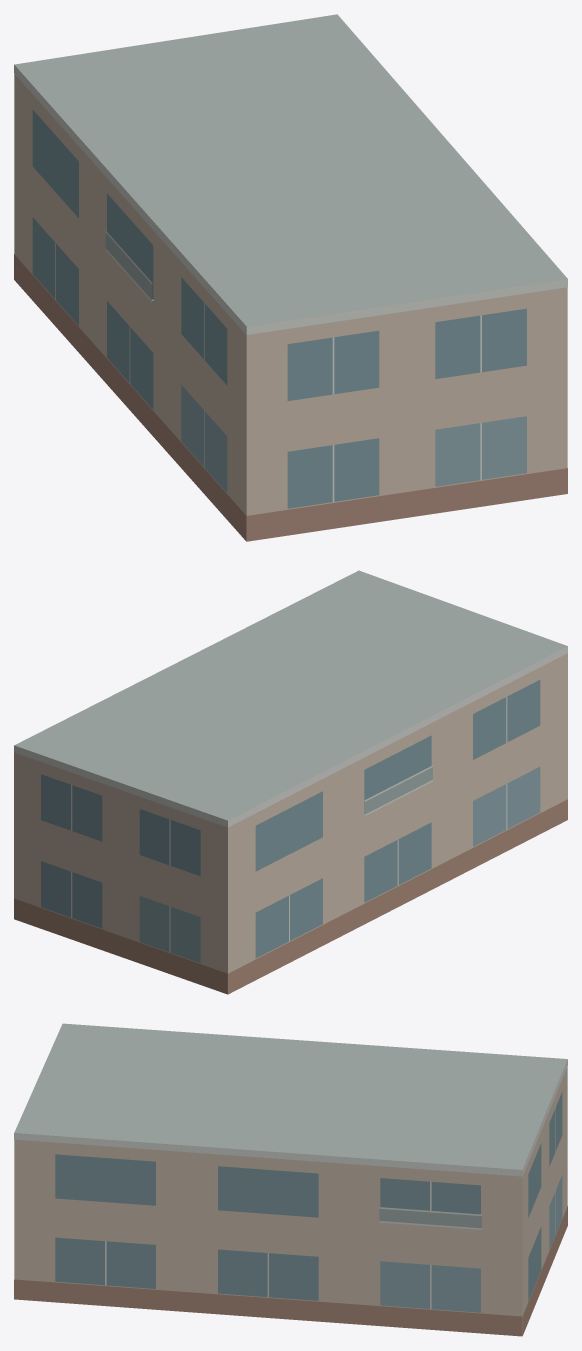
Rendered from survey-upis-32966135.glb.
3 views of the same model, one above another, from view 1: azimuth 30°, elevation 25°; view 2: azimuth 150°, elevation 25°; view 3: azimuth 270°, elevation 25° (orthographic). The views are drawn at different scales.
Parts seen in each view (by area): view 1: survey-upis-32966135.tmp; view 2: survey-upis-32966135.tmp; view 3: survey-upis-32966135.tmp.
Boxes of the visible parts, left/top/right/bottom form: survey-upis-32966135.tmp: left=14, top=14, right=567, bottom=541; survey-upis-32966135.tmp: left=14, top=570, right=567, bottom=994; survey-upis-32966135.tmp: left=14, top=1023, right=567, bottom=1336.
Bounding box in the file's own units: 11.52 × 6.1 × 18.4.
